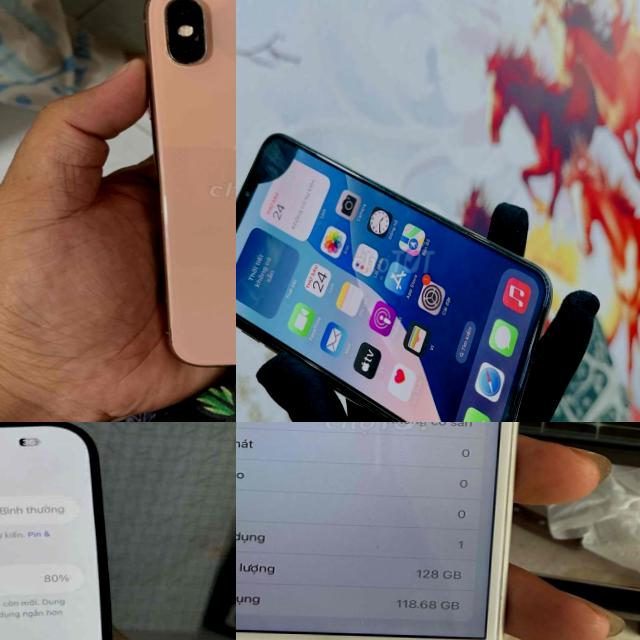gen_15: (0, 422, 143, 640)
gen_7_8: (236, 422, 539, 640)
gen_x_xs: (236, 129, 560, 422), (106, 0, 236, 378)
